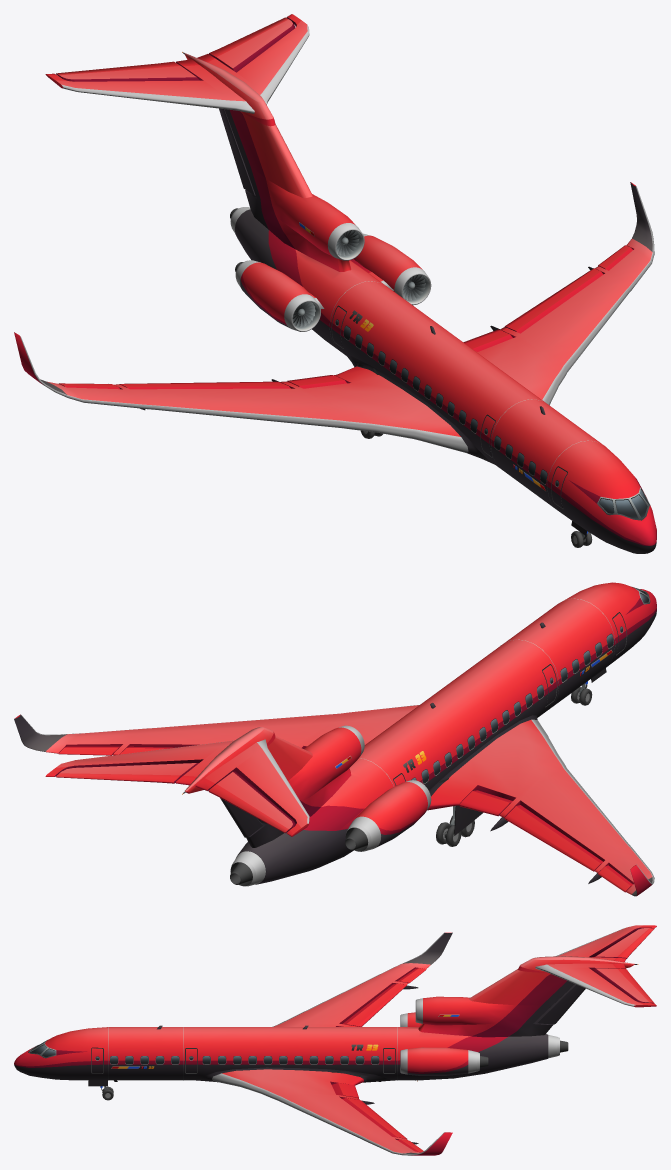
3 views of the same model, one above another, from view 1: azimuth 30°, elevation 25°; view 2: azimuth 150°, elevation 25°; view 3: azimuth 270°, elevation 25° (orthographic). The views are drawn at different scales.
Parts seen in each view (by area): view 1: Fuselage_Plane_5A, Elevator_5A_R.R, Elevator_5A_R.L, Flap_5A_F.L1, Flap_5A_F.R1; view 2: Fuselage_Plane_5A, Elevator_5A_R.R, Elevator_5A_R.L, Flap_5A_F.R1, Flap_5A_F.R2, Rudder_5A, Aileron_5A_F.L, Hatch_5A_R.R1; view 3: Fuselage_Plane_5A, Elevator_5A_R.L, Flap_5A_F.R1, Elevator_5A_R.R, Rudder_5A, Flap_5A_F.L1.
Part boxes in pixels (left/top/right/bottom): Fuselage_Plane_5A: left=14, top=14, right=656, bottom=553; Elevator_5A_R.R: left=56, top=61, right=199, bottom=81; Elevator_5A_R.L: left=209, top=17, right=295, bottom=72; Flap_5A_F.L1: left=504, top=268, right=603, bottom=333; Flap_5A_F.R1: left=119, top=381, right=290, bottom=389; Fuselage_Plane_5A: left=14, top=582, right=656, bottom=896; Elevator_5A_R.R: left=208, top=771, right=295, bottom=833; Elevator_5A_R.L: left=56, top=763, right=198, bottom=783; Flap_5A_F.R1: left=504, top=805, right=602, bottom=871; Flap_5A_F.R2: left=459, top=790, right=512, bottom=816; Rudder_5A: left=220, top=798, right=262, bottom=837; Aileron_5A_F.L: left=58, top=746, right=120, bottom=755; Hatch_5A_R.R1: left=454, top=805, right=483, bottom=835; Fuselage_Plane_5A: left=14, top=925, right=656, bottom=1155; Elevator_5A_R.L: left=591, top=968, right=653, bottom=1003; Flap_5A_F.R1: left=342, top=983, right=406, bottom=1026; Elevator_5A_R.R: left=593, top=928, right=654, bottom=959; Rudder_5A: left=535, top=984, right=585, bottom=1024; Flap_5A_F.L1: left=342, top=1098, right=406, bottom=1138.
Size of the model in its own units: 30.9 by 10.21 by 41.98.
